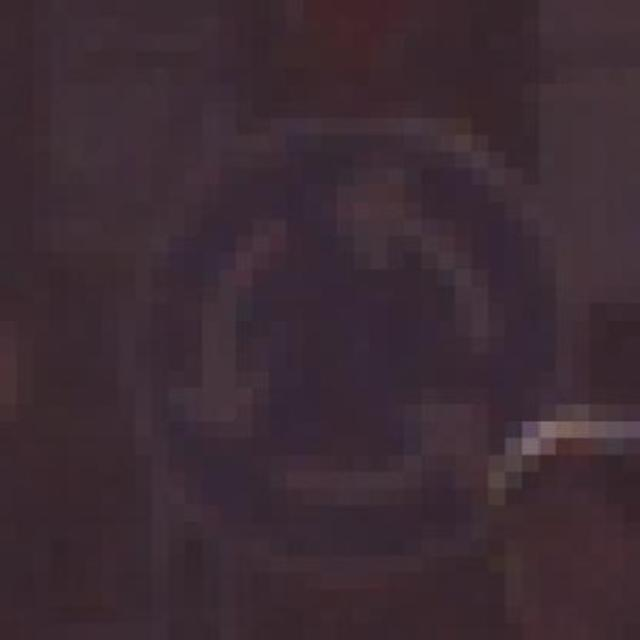Round-About: (118, 84, 590, 590)
